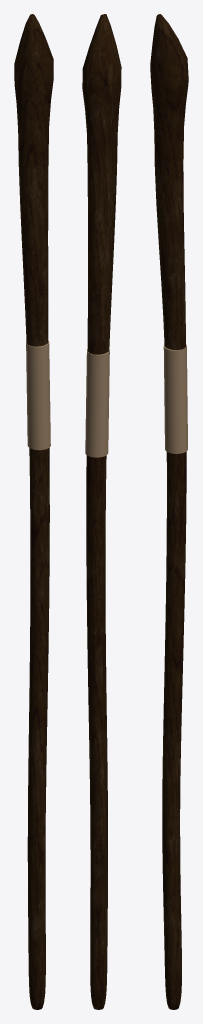
Rendered from darkwood_staff.gltf.
3 renders of one model, left to right at view 1: azimuth 30°, elevation 25°; view 2: azimuth 210°, elevation 25°; view 3: azimuth 330°, elevation 25°, orthographic.
Visible parts, largest first — view 1: Cube; view 2: Cube; view 3: Cube.
Boxes of the visible parts, x1=… form: Cube: x1=14, y1=14, x2=53, y2=1009; Cube: x1=82, y1=14, x2=121, y2=1009; Cube: x1=150, y1=14, x2=188, y2=1009.
Size of the model in its own units: 0.0479 by 1.28 by 0.0378.
Materials: 2 (1 with a texture image).
